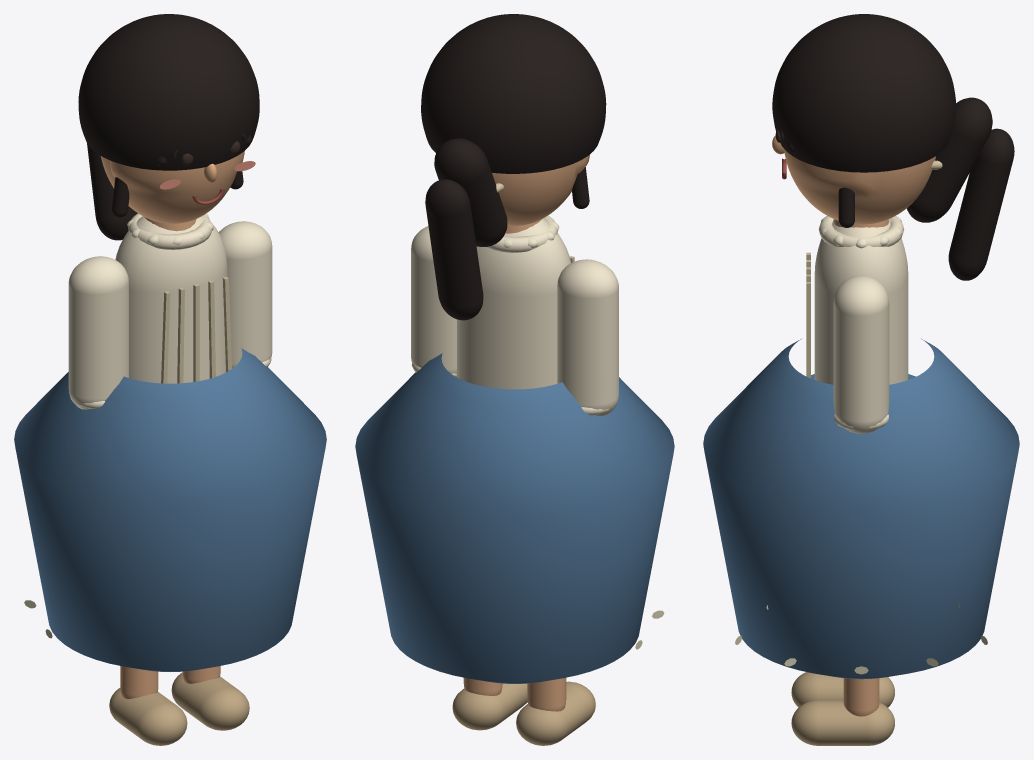
File: mina-game-model-v1.glb
3 views of the same model, side by side, from view 1: azimuth 30°, elevation 25°; view 2: azimuth 150°, elevation 25°; view 3: azimuth 270°, elevation 25° (orthographic). The views are drawn at different scales.
Visible parts, largest first — view 1: Mina_Skirt, Mina_Hair_Cap, Mina_Torso, Mina_LeftArm_Sleeve, Mina_RightArm_Sleeve, Mina_Face, Mina_RightLeg_Shoe, Mina_LeftLeg_Shoe, Mina_Ponytail_End, Mina_Collar, Mina_LeftLeg_Calf, Mina_Blouse_Pleat_0 (+5 smaller); view 2: Mina_Skirt, Mina_Hair_Cap, Mina_Torso, Mina_LeftArm_Sleeve, Mina_Ponytail_End, Mina_RightArm_Sleeve, Mina_Ponytail_Base, Mina_Face, Mina_LeftLeg_Shoe, Mina_RightLeg_Shoe, Mina_LeftLeg_Calf, Mina_Collar (+2 smaller); view 3: Mina_Skirt, Mina_Hair_Cap, Mina_RightArm_Sleeve, Mina_Torso, Mina_Face, Mina_Ponytail_End, Mina_Ponytail_Base, Mina_RightLeg_Shoe, Mina_LeftLeg_Shoe, Mina_RightLeg_Calf, Mina_Collar, Mina_Face_Lock_1.
Boxes of the visible parts, x1=… form: Mina_Skirt: x1=14, y1=348, x2=326, y2=671; Mina_Hair_Cap: x1=78, y1=14, x2=259, y2=170; Mina_Torso: x1=115, y1=215, x2=227, y2=383; Mina_LeftArm_Sleeve: x1=68, y1=256, x2=128, y2=409; Mina_RightArm_Sleeve: x1=218, y1=221, x2=272, y2=368; Mina_Face: x1=100, y1=151, x2=244, y2=223; Mina_RightLeg_Shoe: x1=171, y1=672, x2=249, y2=730; Mina_LeftLeg_Shoe: x1=109, y1=688, x2=187, y2=745; Mina_Ponytail_End: x1=87, y1=143, x2=137, y2=240; Mina_Collar: x1=128, y1=213, x2=212, y2=249; Mina_LeftLeg_Calf: x1=120, y1=666, x2=158, y2=698; Mina_Blouse_Pleat_0: x1=193, y1=284, x2=199, y2=381; Mina_Skirt: x1=355, y1=353, x2=674, y2=683; Mina_Hair_Cap: x1=421, y1=14, x2=606, y2=173; Mina_Torso: x1=457, y1=218, x2=570, y2=389; Mina_LeftArm_Sleeve: x1=557, y1=259, x2=618, y2=415; Mina_Ponytail_End: x1=425, y1=179, x2=483, y2=320; Mina_RightArm_Sleeve: x1=411, y1=226, x2=456, y2=373; Mina_Ponytail_Base: x1=434, y1=138, x2=507, y2=246; Mina_Face: x1=492, y1=154, x2=590, y2=226; Mina_LeftLeg_Shoe: x1=516, y1=681, x2=595, y2=745; Mina_RightLeg_Shoe: x1=452, y1=683, x2=527, y2=730; Mina_LeftLeg_Calf: x1=527, y1=677, x2=566, y2=711; Mina_Collar: x1=486, y1=215, x2=557, y2=252; Mina_Skirt: x1=703, y1=339, x2=1019, y2=679; Mina_Hair_Cap: x1=772, y1=14, x2=955, y2=172; Mina_RightArm_Sleeve: x1=833, y1=275, x2=889, y2=433; Mina_Torso: x1=814, y1=219, x2=908, y2=384; Mina_Face: x1=784, y1=149, x2=935, y2=224; Mina_Ponytail_End: x1=948, y1=128, x2=1014, y2=280; Mina_Ponytail_Base: x1=907, y1=97, x2=992, y2=222; Mina_RightLeg_Shoe: x1=791, y1=700, x2=894, y2=745; Mina_LeftLeg_Shoe: x1=791, y1=672, x2=894, y2=707; Mina_RightLeg_Calf: x1=843, y1=678, x2=879, y2=716; Mina_Collar: x1=818, y1=215, x2=904, y2=246; Mina_Face_Lock_1: x1=838, y1=187, x2=854, y2=227.
Bounding box in the file's own units: 1.84 × 4.53 × 1.84.
